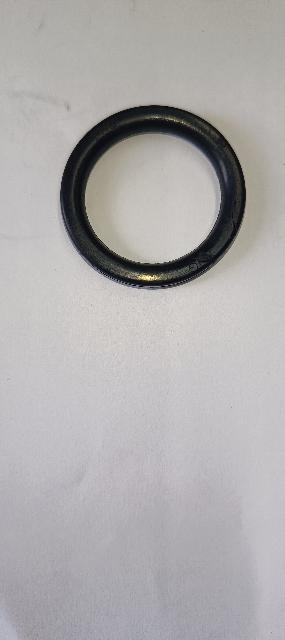scratch: (189, 251, 217, 263), (232, 212, 239, 237)
